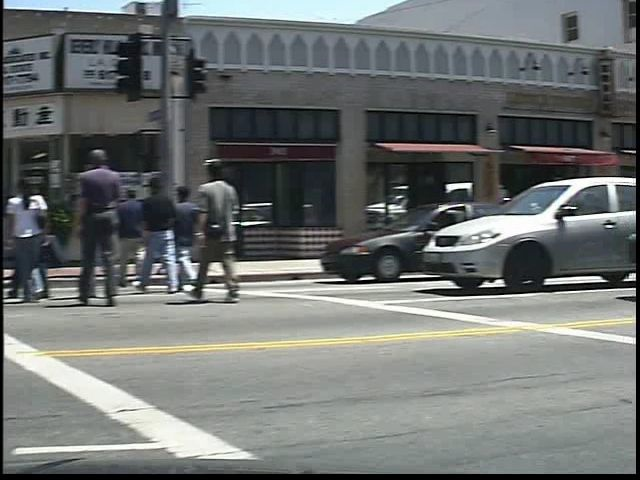person: (85, 147, 150, 314), (19, 177, 69, 308)
